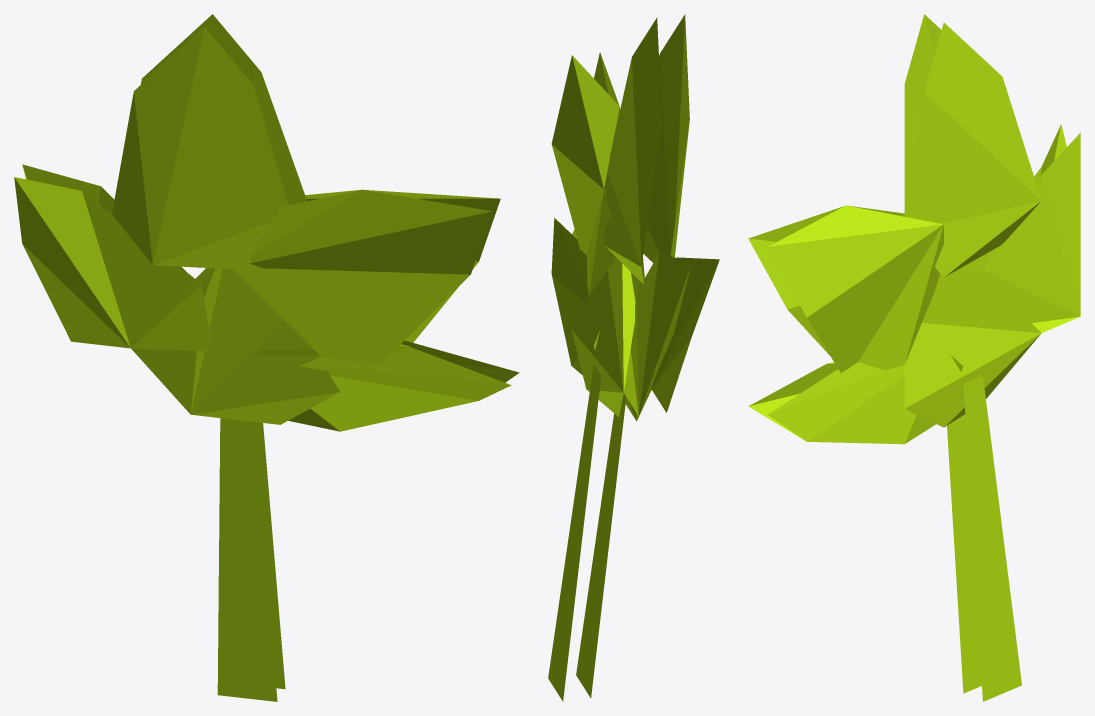
3 renders of one model, left to right at view 1: azimuth 30°, elevation 25°; view 2: azimuth 150°, elevation 25°; view 3: azimuth 270°, elevation 25°, orthographic. The views are drawn at different scales.
Bounding box in the file's own units: 0.1406 × 0.2812 × 0.1328.
